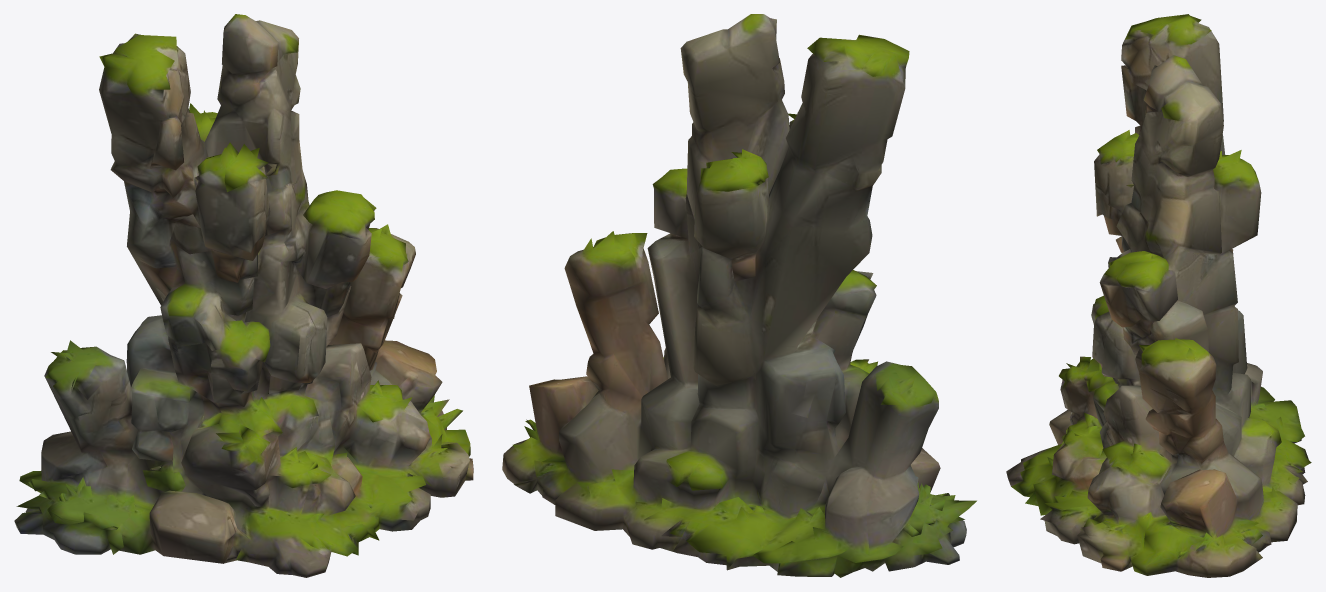
3 views of the same model, side by side, from view 1: azimuth 30°, elevation 25°; view 2: azimuth 150°, elevation 25°; view 3: azimuth 270°, elevation 25° (orthographic). The views are drawn at different scales.
Visible parts, largest first — view 1: tripo_node_e1684358-17ea-4c16-a568-e4604be924f8; view 2: tripo_node_e1684358-17ea-4c16-a568-e4604be924f8; view 3: tripo_node_e1684358-17ea-4c16-a568-e4604be924f8.
Part boxes in pixels (x1,y1,x2,y2): tripo_node_e1684358-17ea-4c16-a568-e4604be924f8: (14, 14, 473, 577); tripo_node_e1684358-17ea-4c16-a568-e4604be924f8: (502, 14, 976, 577); tripo_node_e1684358-17ea-4c16-a568-e4604be924f8: (1006, 14, 1311, 577).
Size of the model in its own units: 0.9334 by 1 by 0.6399.
Materials: 1 (1 with a texture image).
